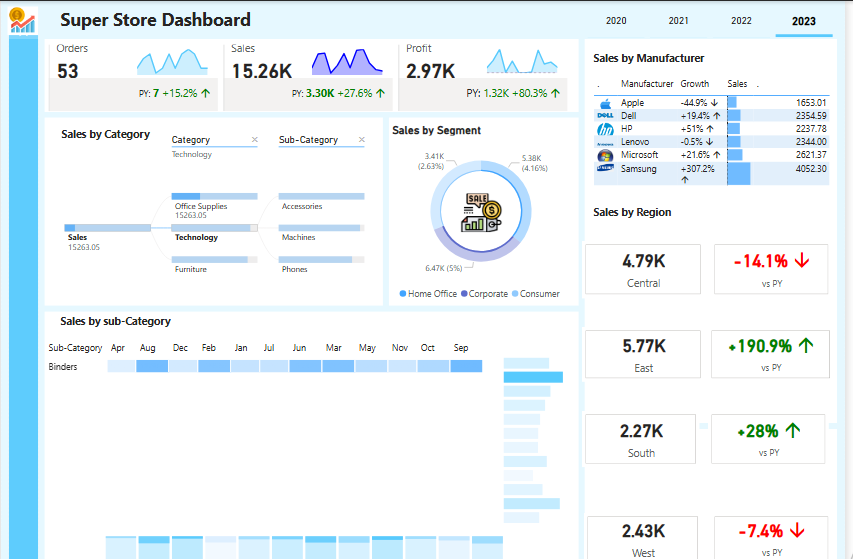

What the dashboard file says about the page in this screenshot:
{"tool":"powerbi","page":{"name":"Page 1","canvas":[1280,900],"ordinal":0},"visuals":[{"type":"advancedSlicerVisual","fields":{"Values":["Calendar.Year"]},"box":[883.6,0,384.7,62.2],"z":0},{"type":"cardVisual","fields":{"Data":["All Measures.Orders","All Measures.Sales","All Measures.Profit"]},"box":[67.2,62.2,799.6,112.5],"z":1000},{"type":"decompositionTreeVisual","fields":{"Analyze":["All Measures.Sales"],"ExplainBy":["dimSubCategory.Category","dimSubCategory.Sub-Category"]},"box":[67.2,186.5,505.6,263.7],"z":2000},{"type":"donutChart","fields":{"Category":["dimSegment.Segment"],"Y":["All Measures.Sales"]},"box":[587.9,186.5,278.8,277.2],"z":3000},{"type":"cardVisual","fields":{"Data":["All Measures.Sales"]},"box":[880,365,185,86.7],"z":4000},{"type":"cardVisual","fields":{"Data":["All Measures.Sales"]},"box":[880,495,185,83.3],"z":5000},{"type":"cardVisual","fields":{"Data":["All Measures.Sales"]},"box":[880,623.3,178.3,85],"z":6000},{"type":"cardVisual","fields":{"Data":["All Measures.Sales"]},"box":[883.3,776.7,178.3,78.3],"z":7000},{"type":"cardVisual","fields":{"Data":["All Measures.Sales Growth Arrow"]},"box":[1075,365,183.3,86.7],"z":8000},{"type":"cardVisual","fields":{"Data":["All Measures.Sales Growth Arrow"]},"box":[1071.7,495,190,83.3],"z":9000},{"type":"cardVisual","fields":{"Data":["All Measures.Sales Growth Arrow"]},"box":[1071.7,623.3,183.3,85],"z":10000},{"type":"cardVisual","fields":{"Data":["All Measures.Sales Growth Arrow"]},"box":[1075,776.7,183.3,78.3],"z":11000},{"type":"textbox","box":[85.7,185.7,171.4,51.8],"z":12000},{"type":"textbox","box":[891.7,305,138.3,38.3],"z":13000},{"type":"textbox","box":[84.9,469.3,202.4,41.6],"z":14000},{"type":"pivotTable","fields":{"Rows":["dimSubCategory.Sub-Category"],"Columns":["Calendar.Month"],"Values":["All Measures.Sales"]},"box":[61.4,511.4,710.2,289.2],"z":15000},{"type":"clusteredBarChart","fields":{"Y":["All Measures.Sales"],"Category":["dimSubCategory.Sub-Category"]},"box":[755.4,529,128.3,269.3],"z":16000},{"type":"clusteredColumnChart","fields":{"Category":["Calendar.Month"],"Y":["All Measures.Sales"]},"box":[153.6,798.8,612.7,101.2],"z":17000},{"type":"textbox","box":[891.7,71.7,201.7,40],"z":18000},{"type":"tableEx","fields":{"Values":["dimManufacturer.img","dimManufacturer.Manufacturer","All Measures.Sales Growth Arrow","All Measures.Sales Bar","All Measures.Sales"]},"box":[891.7,111.7,368.3,176.7],"z":19000},{"type":"textbox","box":[67.9,5.4,332.1,57.1],"z":20000},{"type":"image","box":[689.8,288.1,76.3,69.5],"z":21000},{"type":"image","box":[5,5,57.1,53.8],"z":23000}]}

Visuals, with their boxes on the page's 1280x900 design canvas (x1, y1, x2, y2). These are canvas units, not pixel positions in the 853x559 screenshot, which may show the page scaled, cropped or inside an application window:
advancedSlicerVisual - Calendar.Year: <region>884, 0, 1268, 62</region>
cardVisual - All Measures.Orders x All Measures.Sales: <region>67, 62, 867, 175</region>
decompositionTreeVisual - All Measures.Sales x dimSubCategory.Category: <region>67, 186, 573, 450</region>
donutChart - dimSegment.Segment x All Measures.Sales: <region>588, 186, 867, 464</region>
cardVisual - All Measures.Sales: <region>880, 365, 1065, 452</region>
cardVisual - All Measures.Sales: <region>880, 495, 1065, 578</region>
cardVisual - All Measures.Sales: <region>880, 623, 1058, 708</region>
cardVisual - All Measures.Sales: <region>883, 777, 1062, 855</region>
cardVisual - All Measures.Sales Growth Arrow: <region>1075, 365, 1258, 452</region>
cardVisual - All Measures.Sales Growth Arrow: <region>1072, 495, 1262, 578</region>
cardVisual - All Measures.Sales Growth Arrow: <region>1072, 623, 1255, 708</region>
cardVisual - All Measures.Sales Growth Arrow: <region>1075, 777, 1258, 855</region>
textbox: <region>86, 186, 257, 238</region>
textbox: <region>892, 305, 1030, 343</region>
textbox: <region>85, 469, 287, 511</region>
pivotTable - dimSubCategory.Sub-Category x Calendar.Month: <region>61, 511, 772, 801</region>
clusteredBarChart - All Measures.Sales x dimSubCategory.Sub-Category: <region>755, 529, 884, 798</region>
clusteredColumnChart - Calendar.Month x All Measures.Sales: <region>154, 799, 766, 900</region>
textbox: <region>892, 72, 1093, 112</region>
tableEx - dimManufacturer.img x dimManufacturer.Manufacturer: <region>892, 112, 1260, 288</region>
textbox: <region>68, 5, 400, 62</region>
image: <region>690, 288, 766, 358</region>
image: <region>5, 5, 62, 59</region>
